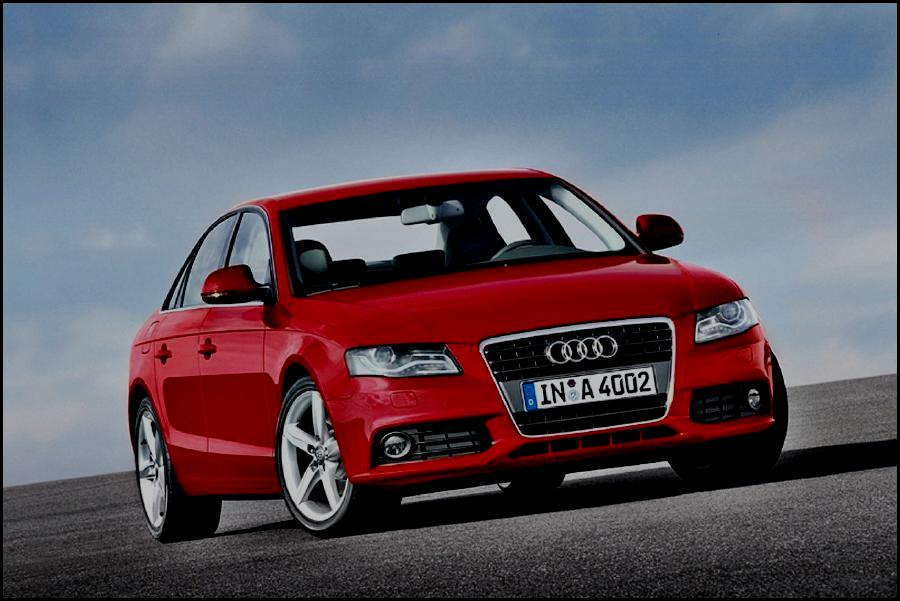Audi: (539, 330, 627, 375)
